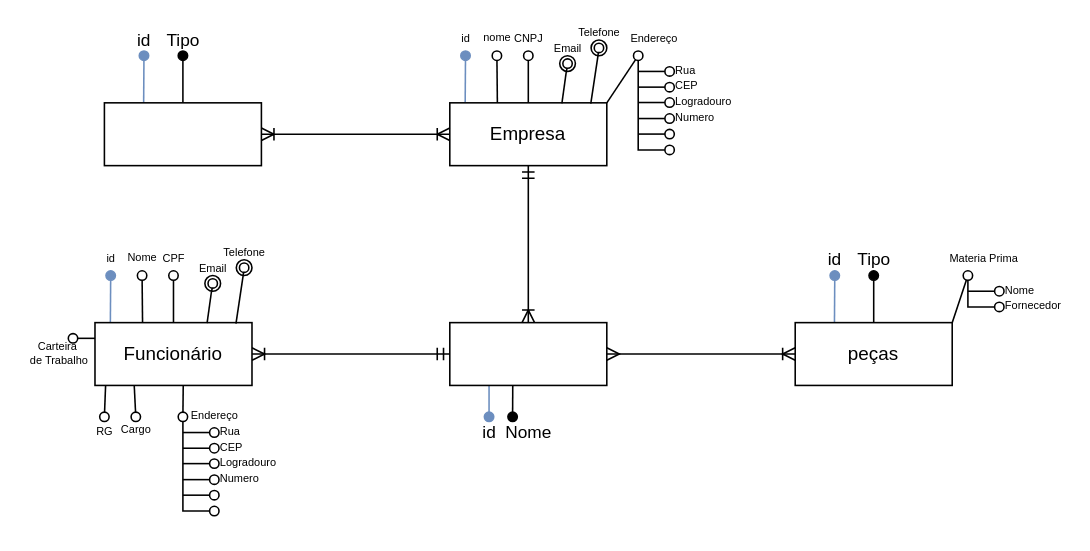
This 1090x551 diagram has some shape labels left out. The shapes that lost their labels are listed below. From the top down, each one's centre as x and y in pixels, then its label:
At (x=182, y=133): "Industria".
At (x=527, y=353): "setores".
